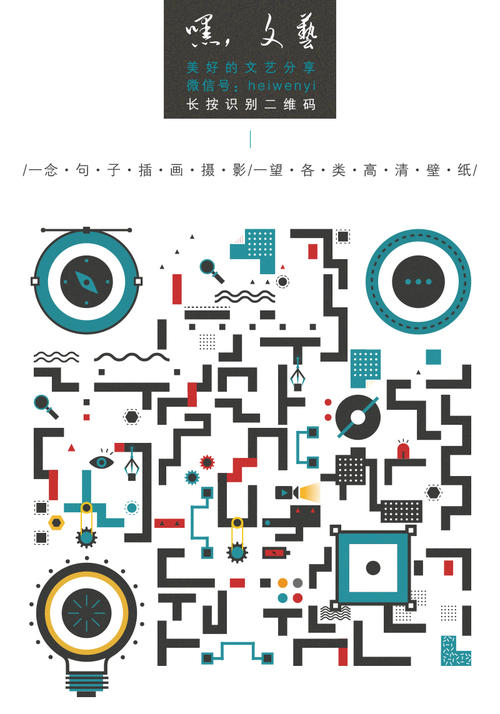QRCode: (18, 218, 489, 684)
